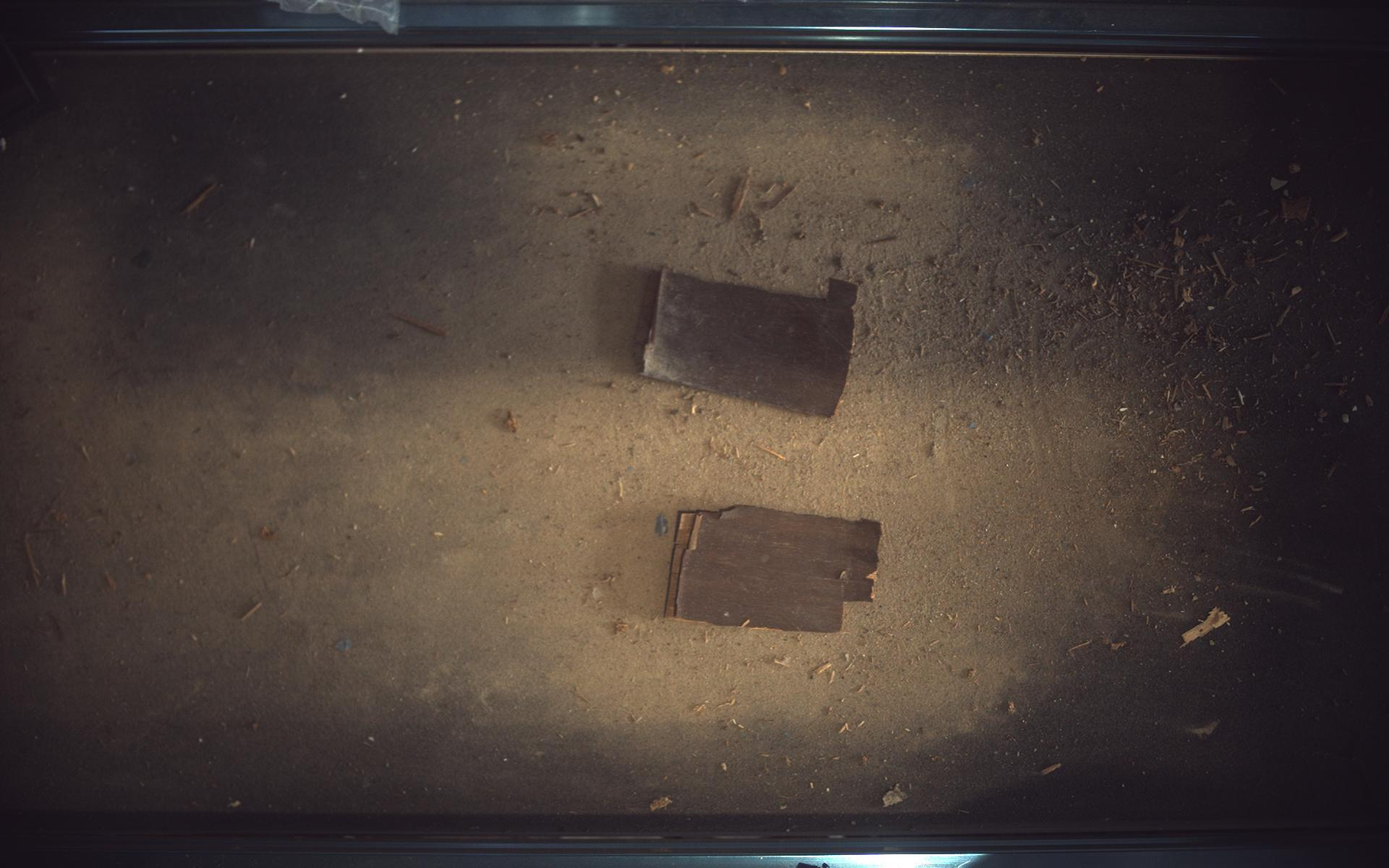wood: (644, 268, 858, 417), (666, 506, 883, 633)
